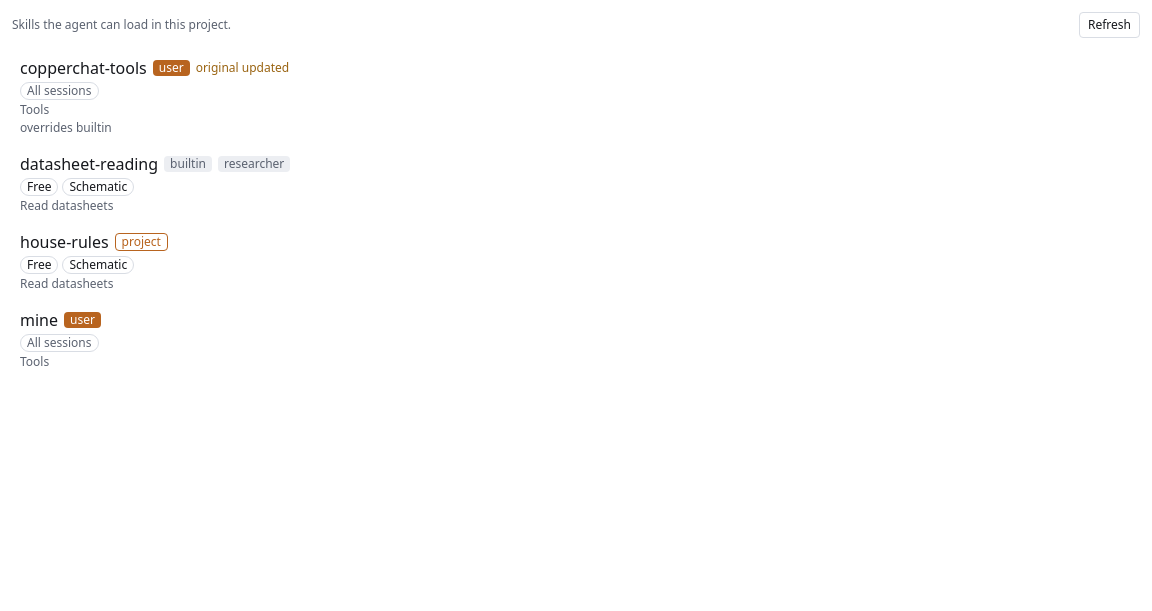
Test: SkillsPanel › session toggles are disabled with a hint when the content has no front matter
The image size is (1152, 611).
What coordinates should you click on to do the following:
click the text "copperchat-tools"
I would click on:
 (83, 68)
Its box is [20, 56, 147, 80].
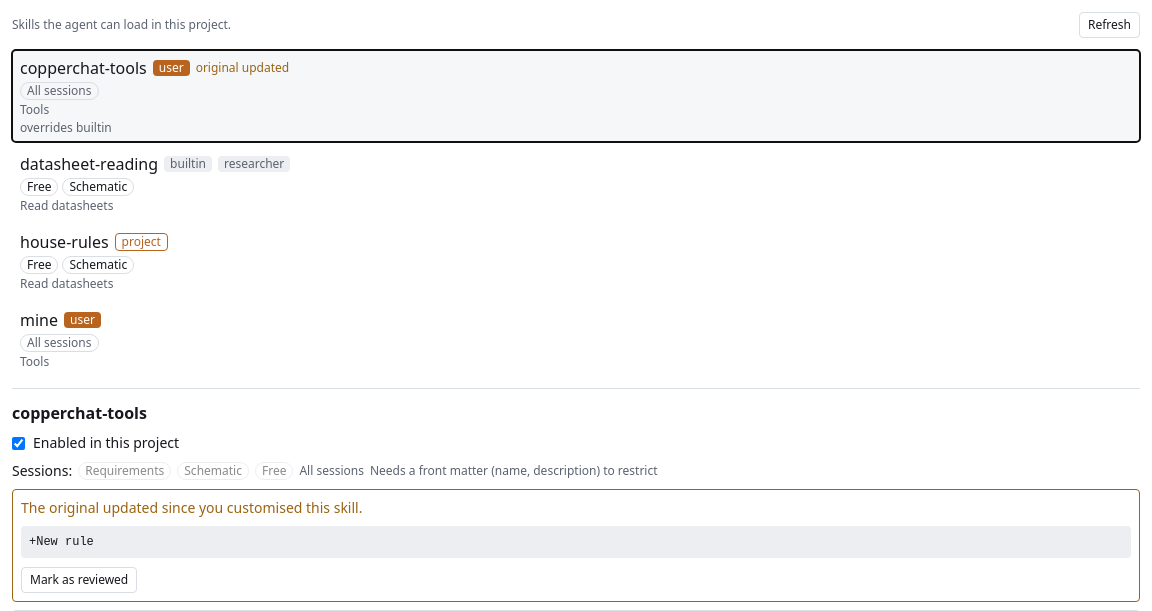
Expected: the button "Schematic" is disabled, [177, 462, 249, 480]
Expected: the text "Needs a front matter (name, description) to restrict" is shown, [370, 463, 658, 479]
